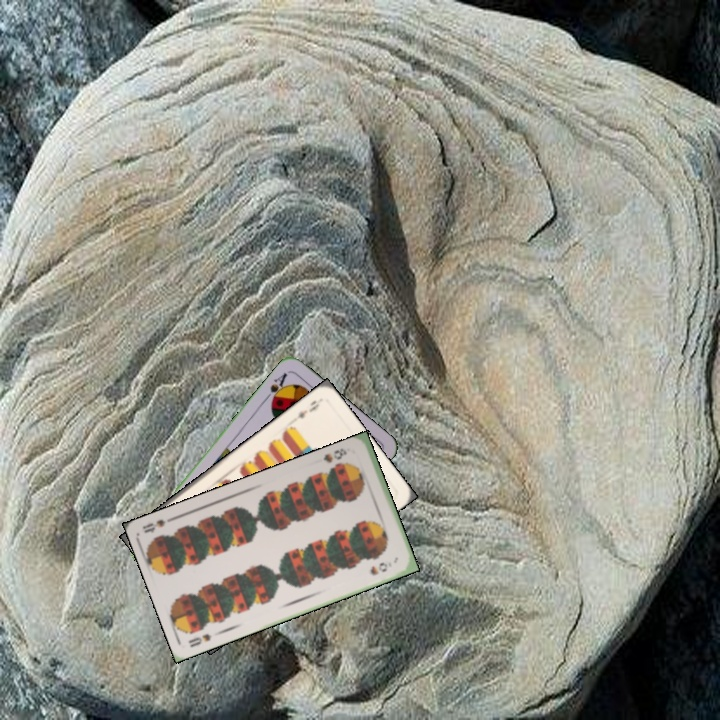E9: (294, 396, 322, 421)
S8: (319, 444, 349, 465), (184, 629, 214, 650)
SA: (261, 368, 290, 407)
